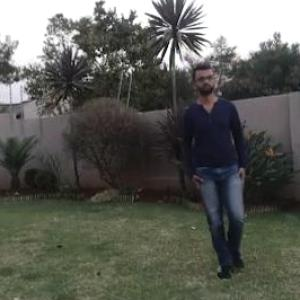follow: (178, 53, 258, 289)
